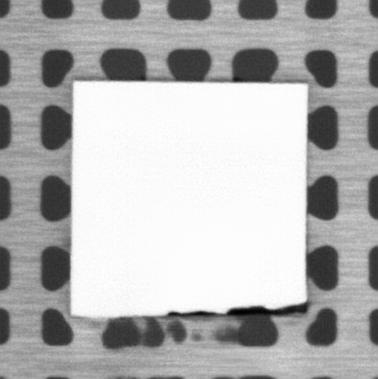DIE_BROKEN: (166, 299, 309, 317)
